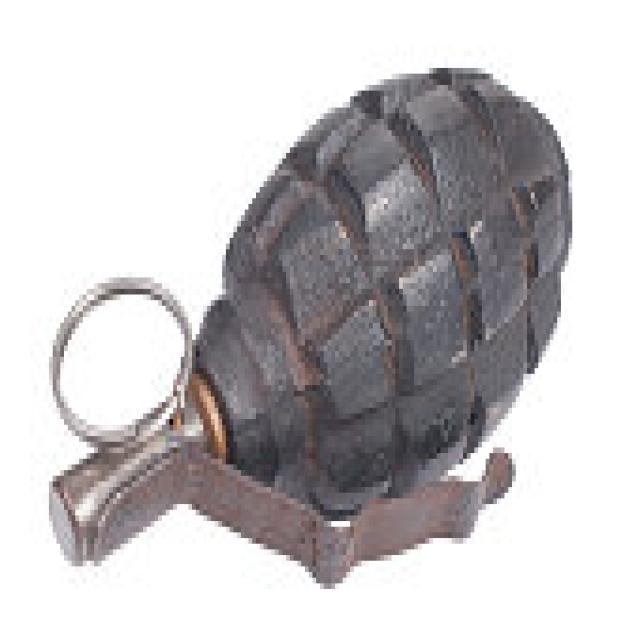grenade: (40, 61, 581, 590)
